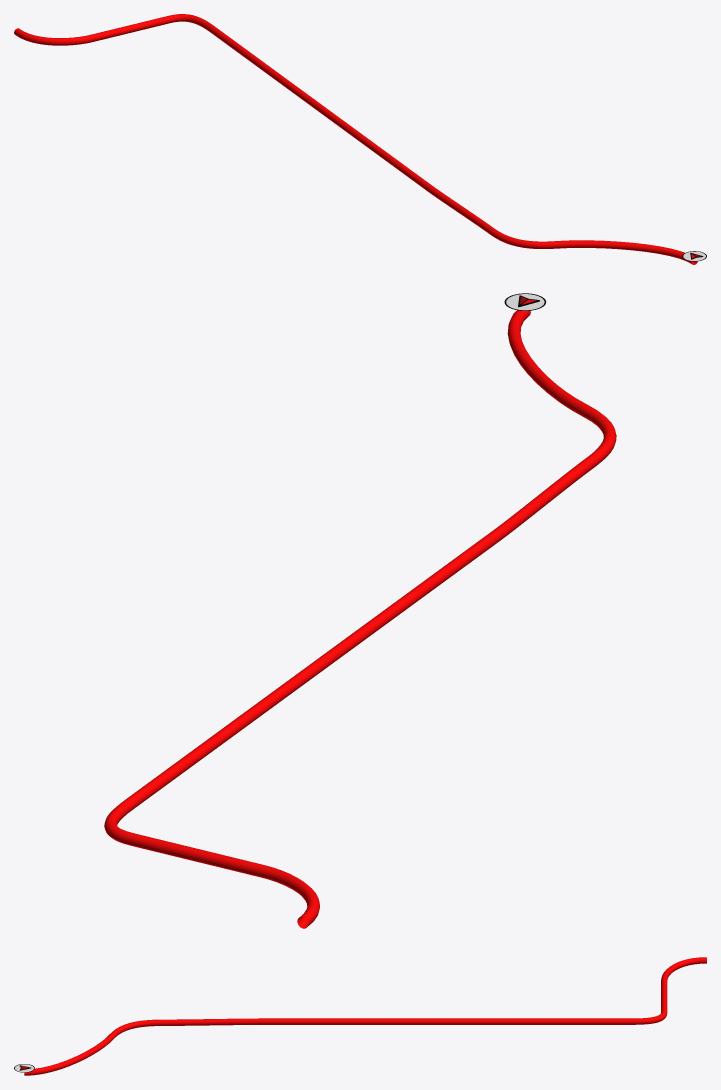
File: route_fde4c424-5033-4732-a1c3-72e3ef30a595_de_single.glb
3 views of the same model, one above another, from view 1: azimuth 30°, elevation 25°; view 2: azimuth 150°, elevation 25°; view 3: azimuth 270°, elevation 25° (orthographic). The views are drawn at different scales.
Visible parts, largest first — view 1: A7, Abteil 4; view 2: A7, Abteil 4; view 3: A7, Abteil 4.
Boxes of the visible parts, x1=… form: A7, Abteil 4: x1=14, y1=14, x2=697, y2=264; A7, Abteil 4: x1=104, y1=310, x2=616, y2=928; A7, Abteil 4: x1=24, y1=957, x2=706, y2=1075.
Bounding box in the file's own units: 3.47 × 0.1062 × 8.61.
